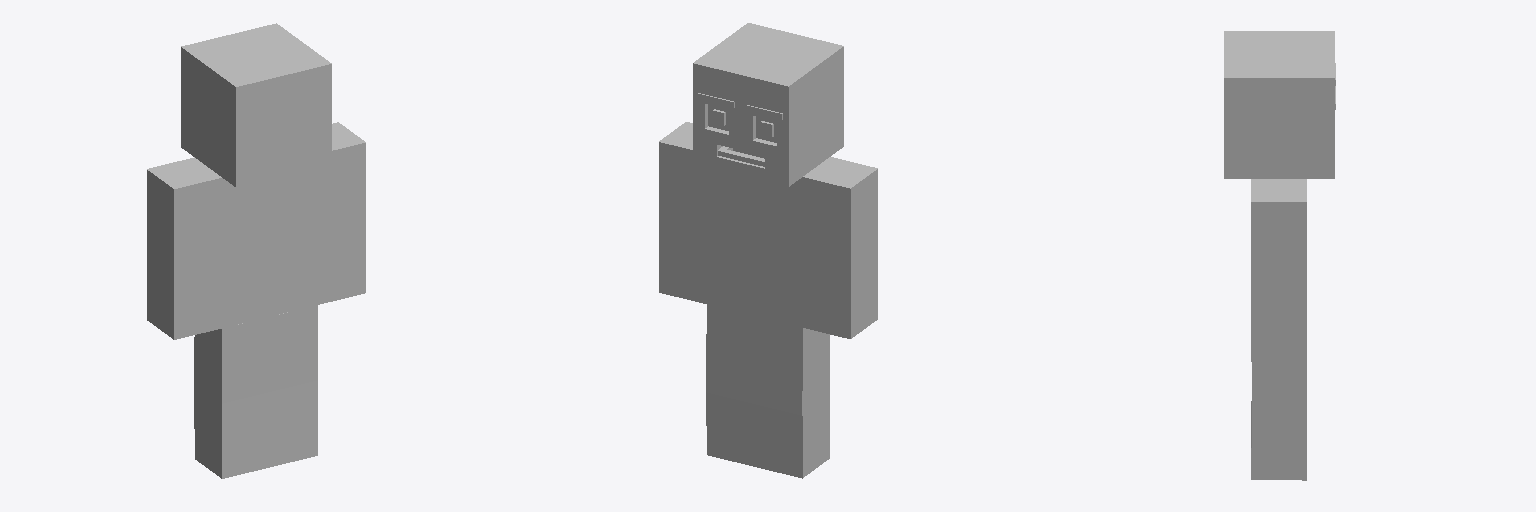
File: steve_animate_000000.obj
The picture shows the model from 3 angles: view 1: azimuth 30°, elevation 25°; view 2: azimuth 150°, elevation 25°; view 3: azimuth 270°, elevation 25°; orthographic projection.
Visible parts, largest first — view 1: Mesh.001_Head, Body_Steve_Body.001, Arm_L_Arm_L.001, Leg_L_Leg_L.001, Arm_R_Arm_R.001, Leg_R_Leg_R.001; view 2: Mesh.001_Head, Body_Steve_Body.001, Arm_L_Arm_L.001, Leg_L_Leg_L.001, Arm_R_Arm_R.001, Leg_R_Leg_R.001; view 3: Mesh.001_Head, Arm_R_Arm_R.001, Leg_R_Leg_R.001.
Boxes of the visible parts, x1=… form: Mesh.001_Head: x1=181, y1=23, x2=331, y2=187; Body_Steve_Body.001: x1=222, y1=168, x2=317, y2=327; Arm_L_Arm_L.001: x1=147, y1=157, x2=221, y2=339; Leg_L_Leg_L.001: x1=194, y1=317, x2=269, y2=478; Arm_R_Arm_R.001: x1=318, y1=122, x2=365, y2=304; Leg_R_Leg_R.001: x1=270, y1=305, x2=317, y2=466; Mesh.001_Head: x1=693, y1=23, x2=843, y2=186; Body_Steve_Body.001: x1=707, y1=167, x2=802, y2=327; Arm_L_Arm_L.001: x1=803, y1=157, x2=877, y2=338; Leg_L_Leg_L.001: x1=754, y1=316, x2=829, y2=478; Arm_R_Arm_R.001: x1=659, y1=122, x2=706, y2=303; Leg_R_Leg_R.001: x1=706, y1=305, x2=754, y2=466; Mesh.001_Head: x1=1224, y1=31, x2=1334, y2=178; Arm_R_Arm_R.001: x1=1251, y1=179, x2=1306, y2=352; Leg_R_Leg_R.001: x1=1251, y1=353, x2=1306, y2=480.
Size of the model in its own units: 3.2 by 6.4 by 1.62.